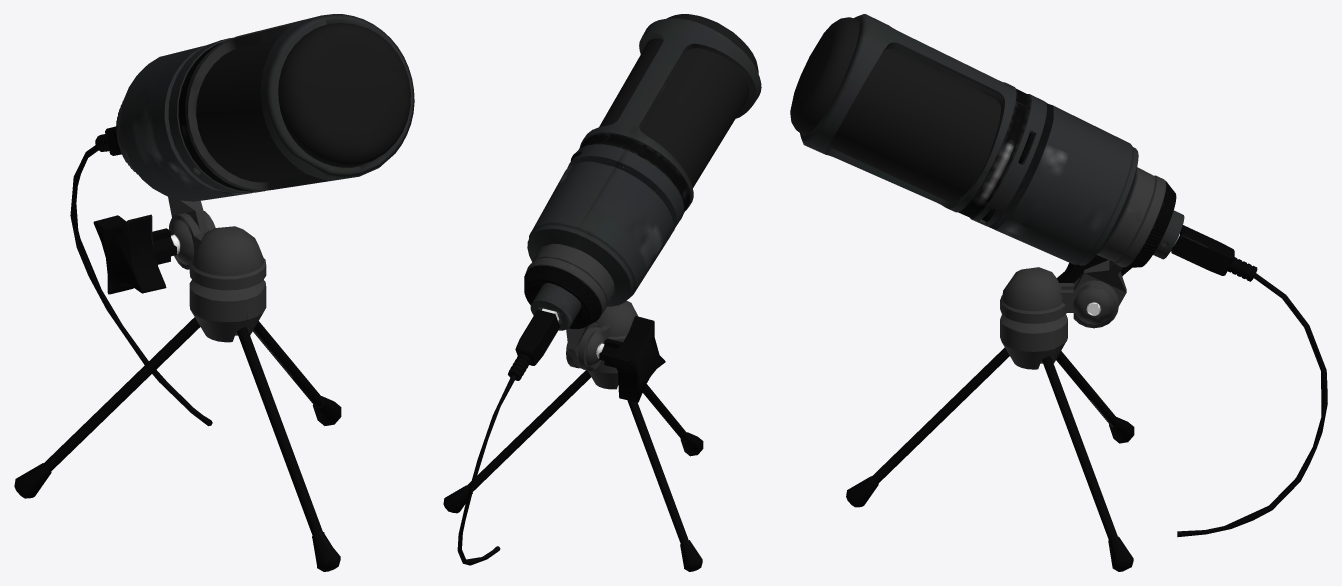
Rendered from dev-microphone_lod2.glb.
The picture shows the model from 3 angles, left to right: view 1: azimuth 30°, elevation 25°; view 2: azimuth 150°, elevation 25°; view 3: azimuth 270°, elevation 25°; orthographic projection. The views are drawn at different scales.
Parts seen in each view (by area): view 1: body; view 2: body; view 3: body.
Boxes of the visible parts, x1,y1,x2,y2 form: body: (14, 14, 414, 571); body: (443, 14, 761, 571); body: (790, 14, 1327, 571).
Size of the model in its own units: 0.1366 by 0.2241 by 0.2236.
Materials: 2 (1 with a texture image).
